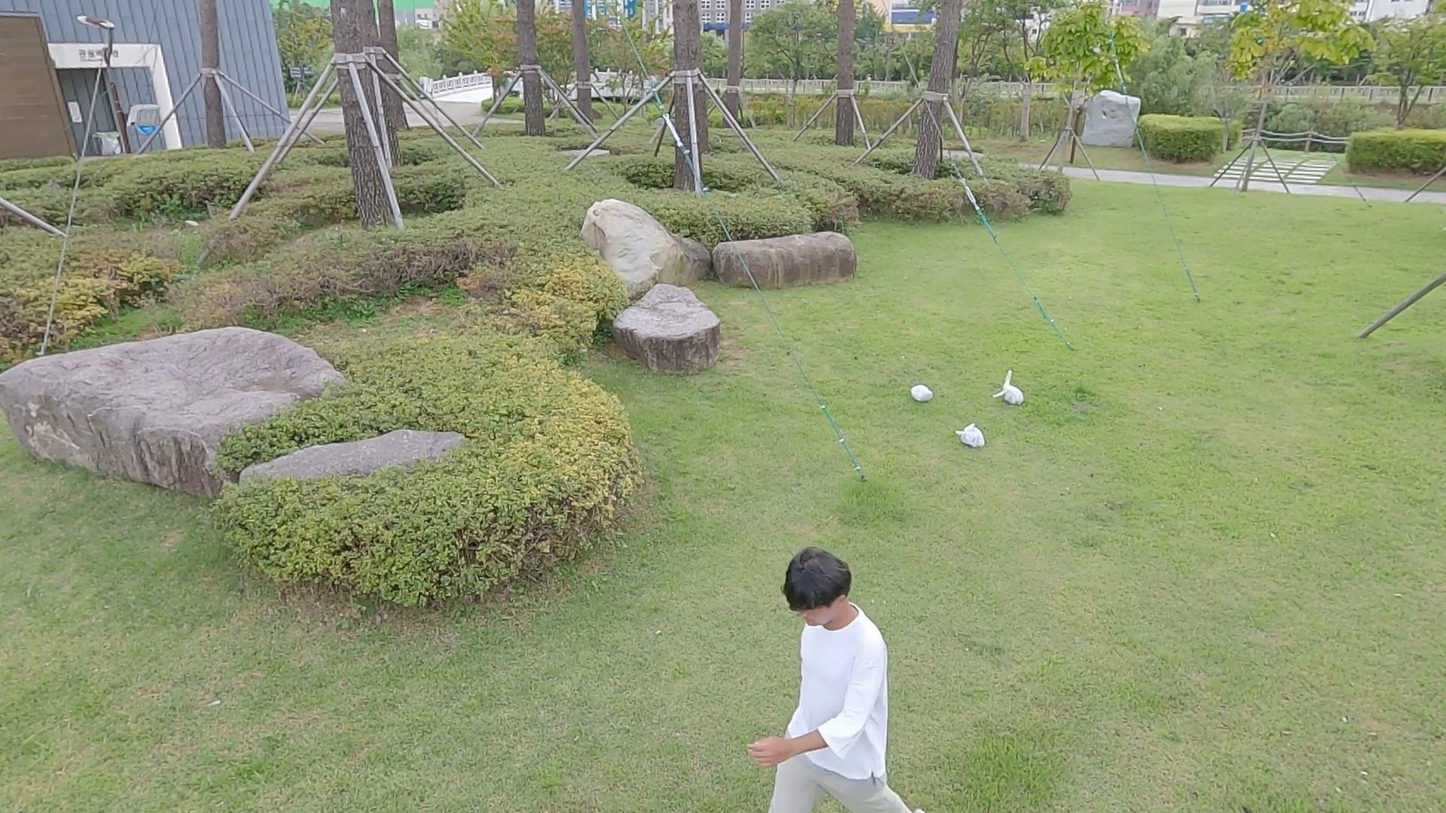person: (753, 548, 917, 813)
trash: (994, 370, 1026, 408), (956, 422, 987, 450), (910, 383, 934, 404)
